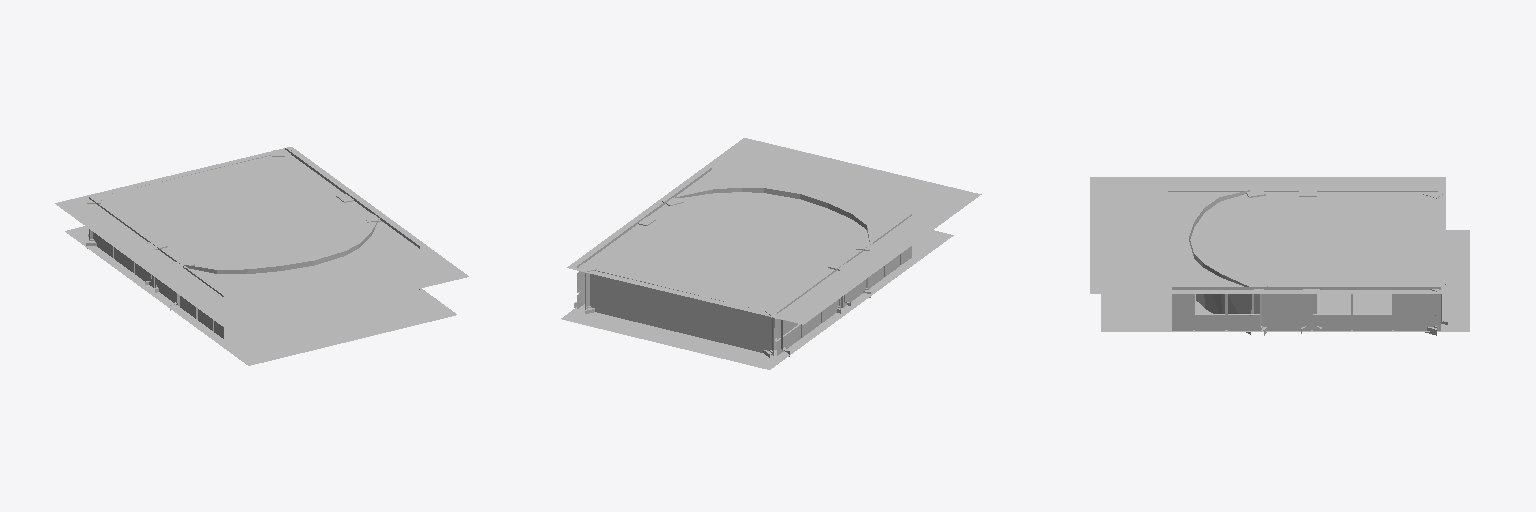
File: UpdatesStudioScale.obj
3 views of the same model, side by side, from view 1: azimuth 30°, elevation 25°; view 2: azimuth 150°, elevation 25°; view 3: azimuth 270°, elevation 25° (orthographic).
Visible parts, largest first — view 1: polySurface14 pPlane3, pPlane3 polySurface15, pPlane3 polySurface16, pPlane3 polySurface24; view 2: polySurface14 pPlane3, pPlane3 polySurface18, pPlane3 polySurface15, pPlane3 polySurface16, pPlane3 polySurface24; view 3: polySurface14 pPlane3, pPlane3 polySurface17, pPlane3 polySurface15, pPlane3 polySurface24.
Part boxes in pixels (x1,y1,x2,y2): polySurface14 pPlane3: (55, 147, 468, 333); pPlane3 polySurface15: (65, 226, 456, 365); pPlane3 polySurface16: (89, 197, 223, 338); pPlane3 polySurface24: (184, 219, 378, 273); polySurface14 pPlane3: (567, 138, 981, 324); pPlane3 polySurface18: (585, 270, 774, 355); pPlane3 polySurface15: (561, 230, 953, 369); pPlane3 polySurface16: (775, 214, 911, 355); pPlane3 polySurface24: (675, 188, 869, 241); polySurface14 pPlane3: (1090, 177, 1445, 293); pPlane3 polySurface17: (1172, 287, 1440, 330); pPlane3 polySurface15: (1101, 230, 1469, 331); pPlane3 polySurface24: (1189, 190, 1251, 334).
Bounding box in the file's own units: 216 × 44.68 × 300.